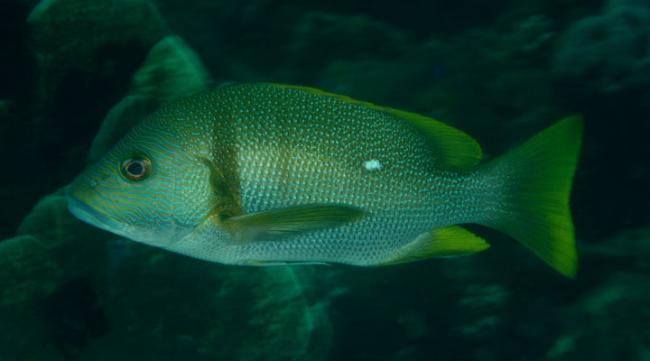fish: (64, 82, 585, 280)
